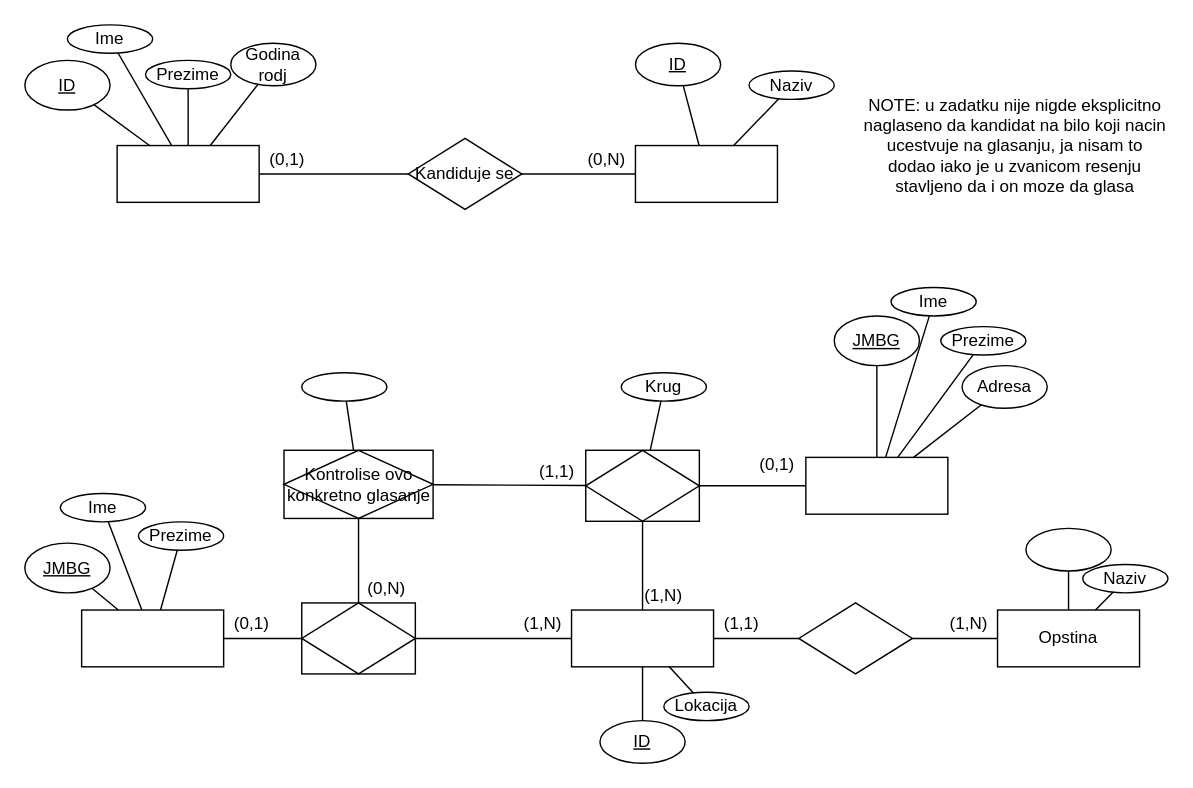
Some shapes in this 1193 by 788 pixel diagram are drawn without their labels. The shapes that lost their labels are listed below. From the top down, each one's centre as x and y in pixels, then its label:
the point at 187,173: Kandidat
the point at 705,173: Partija
the point at 343,386: Napomena
the point at 641,485: Glasa na
the point at 876,485: Birac
the point at 1068,549: Sifra
the point at 152,638: Kontrolor
the point at 357,638: Zaduzen za
the point at 642,638: Biracko mesto
the point at 854,638: Nalazi se
